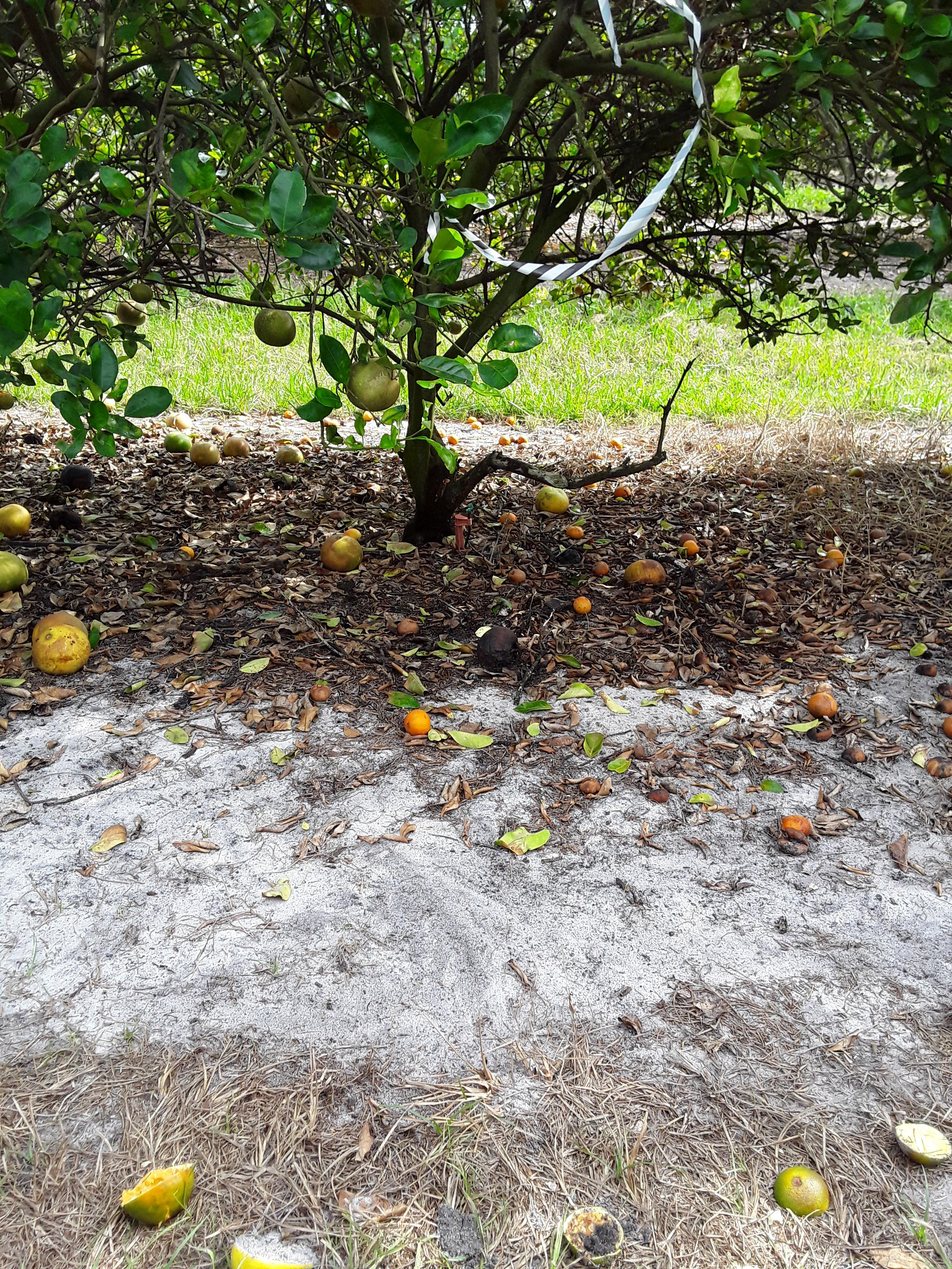fruit_on_ground: (343, 354, 403, 413), (252, 303, 298, 350), (282, 73, 326, 120), (367, 9, 409, 44), (0, 69, 30, 113), (110, 298, 151, 326), (75, 44, 109, 75), (343, 0, 405, 14), (128, 282, 156, 307), (323, 116, 350, 141), (473, 0, 515, 16), (1, 387, 17, 414), (635, 277, 658, 295), (573, 280, 589, 299), (445, 318, 464, 334)
fruit_on_tree: (112, 1157, 202, 1232), (556, 1200, 631, 1265), (221, 1225, 322, 1269), (772, 1162, 839, 1222), (30, 621, 100, 675), (890, 1116, 952, 1173), (863, 1240, 942, 1269), (27, 611, 100, 642), (321, 531, 370, 574), (476, 623, 520, 669), (0, 547, 33, 593), (621, 559, 672, 587), (536, 481, 574, 516), (46, 503, 88, 533), (0, 502, 34, 539), (57, 463, 98, 493), (803, 690, 842, 720), (400, 706, 435, 739), (192, 431, 222, 468), (779, 812, 816, 840), (774, 831, 811, 859), (163, 427, 195, 453), (641, 784, 676, 807), (274, 442, 308, 465), (838, 743, 869, 767), (164, 409, 196, 432), (308, 682, 336, 707), (926, 752, 951, 780), (804, 723, 837, 743), (743, 608, 770, 632), (223, 433, 249, 456), (578, 775, 602, 799), (394, 615, 420, 637), (505, 562, 528, 586), (913, 661, 942, 680), (19, 428, 46, 448), (568, 596, 592, 617), (558, 547, 583, 566), (934, 692, 952, 718), (825, 546, 848, 565), (564, 524, 589, 540), (807, 481, 827, 499), (579, 475, 600, 492), (177, 544, 198, 561), (684, 538, 701, 558), (499, 512, 520, 528), (816, 559, 841, 572), (714, 523, 732, 541), (847, 462, 863, 481), (740, 473, 759, 489), (869, 525, 888, 541), (759, 588, 780, 602), (706, 499, 723, 516), (612, 486, 633, 499), (592, 556, 607, 574), (753, 477, 772, 491), (938, 678, 952, 697), (680, 532, 697, 547), (609, 434, 622, 452), (942, 713, 952, 736), (690, 498, 705, 513), (497, 432, 513, 446), (447, 433, 463, 447), (282, 410, 294, 423), (504, 416, 518, 426), (299, 437, 313, 447), (465, 413, 477, 423), (765, 465, 777, 475), (470, 421, 483, 430), (519, 431, 527, 445), (478, 416, 486, 426), (511, 432, 519, 442)
